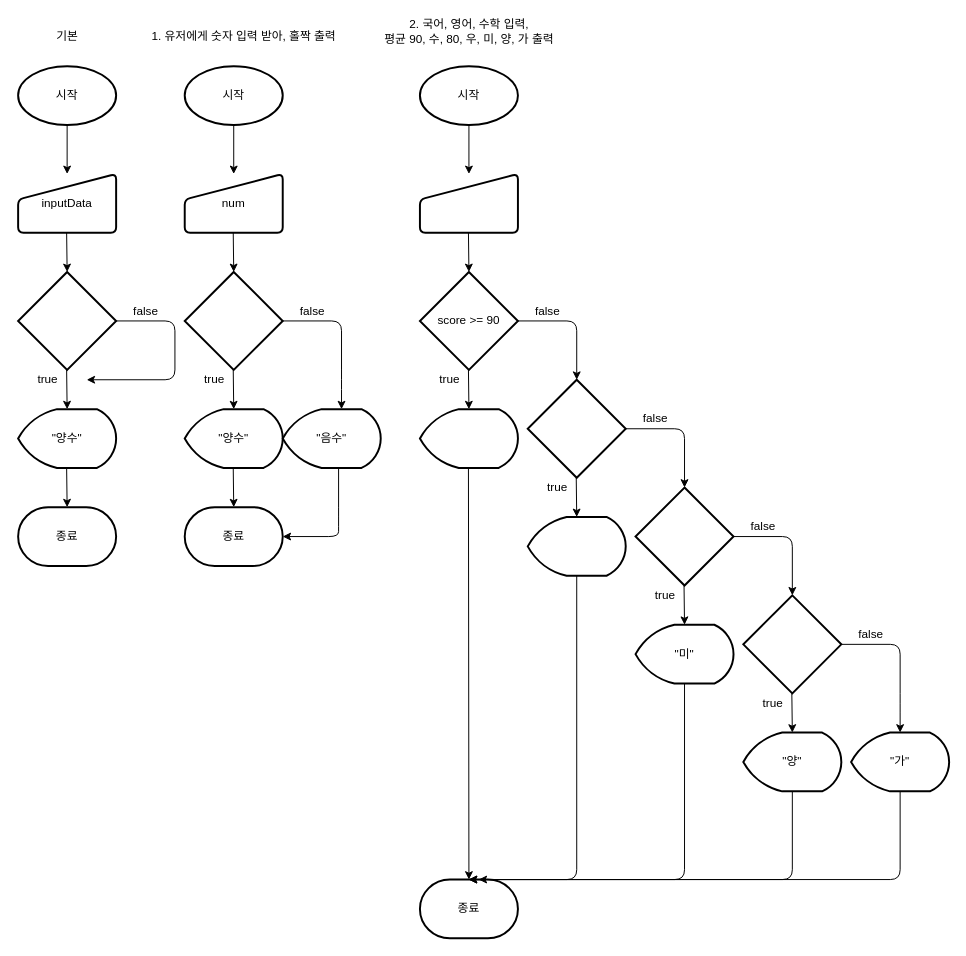
This 966x956 diagram has some shape labels left out. The shapes that lost their labels are listed below. From the top down, each one's centre as x and y in pixels, then its label:
[468,202]: score
[67,320]: inputData > 0
[233,320]: num > 0
[468,438]: "수"
[576,428]: score >= 80
[576,545]: "우"
[684,536]: score >= 70
[792,644]: score >= 60
